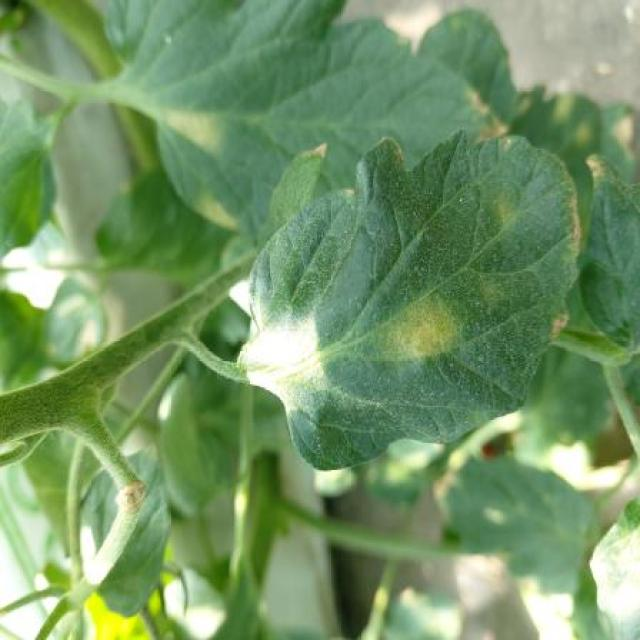Leaf Mold: (248, 134, 583, 479)
